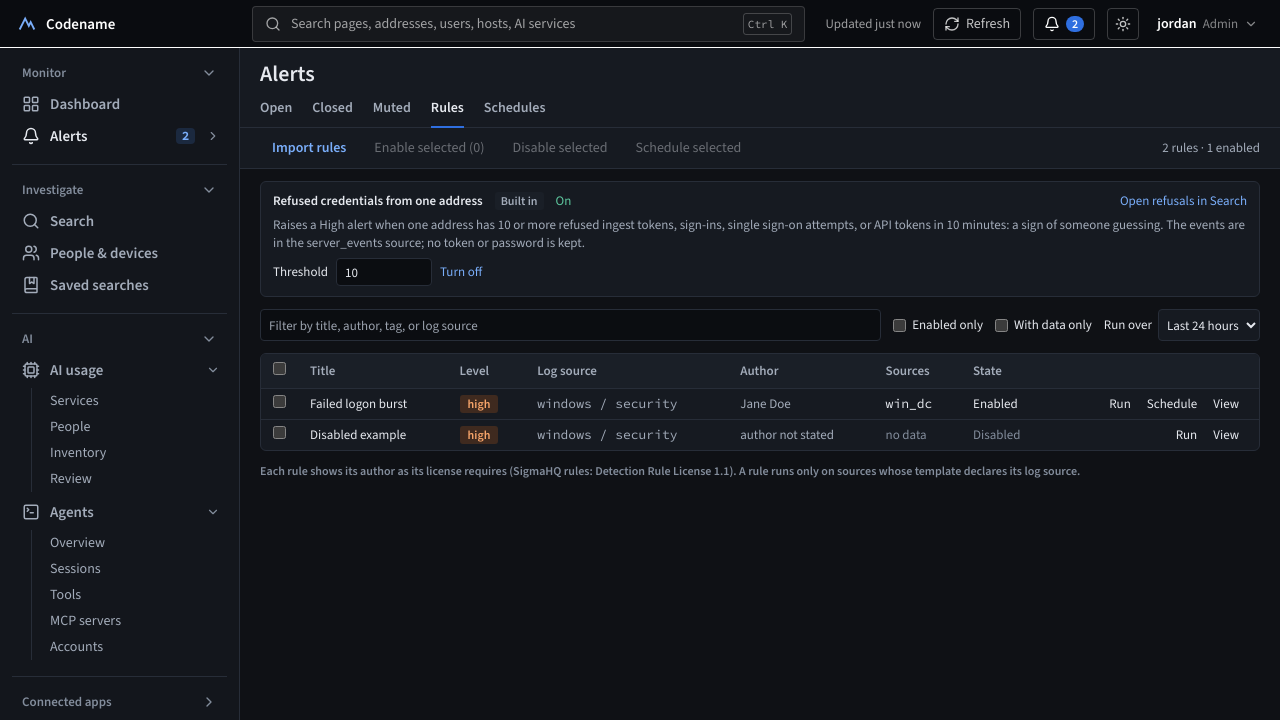
Test: Detection rules › schedules every selected rule at once with one set of settings (F58)
The image size is (1280, 720).
Click the checkbox named "Select all shown" at [280, 368], box [273,362,286,375]
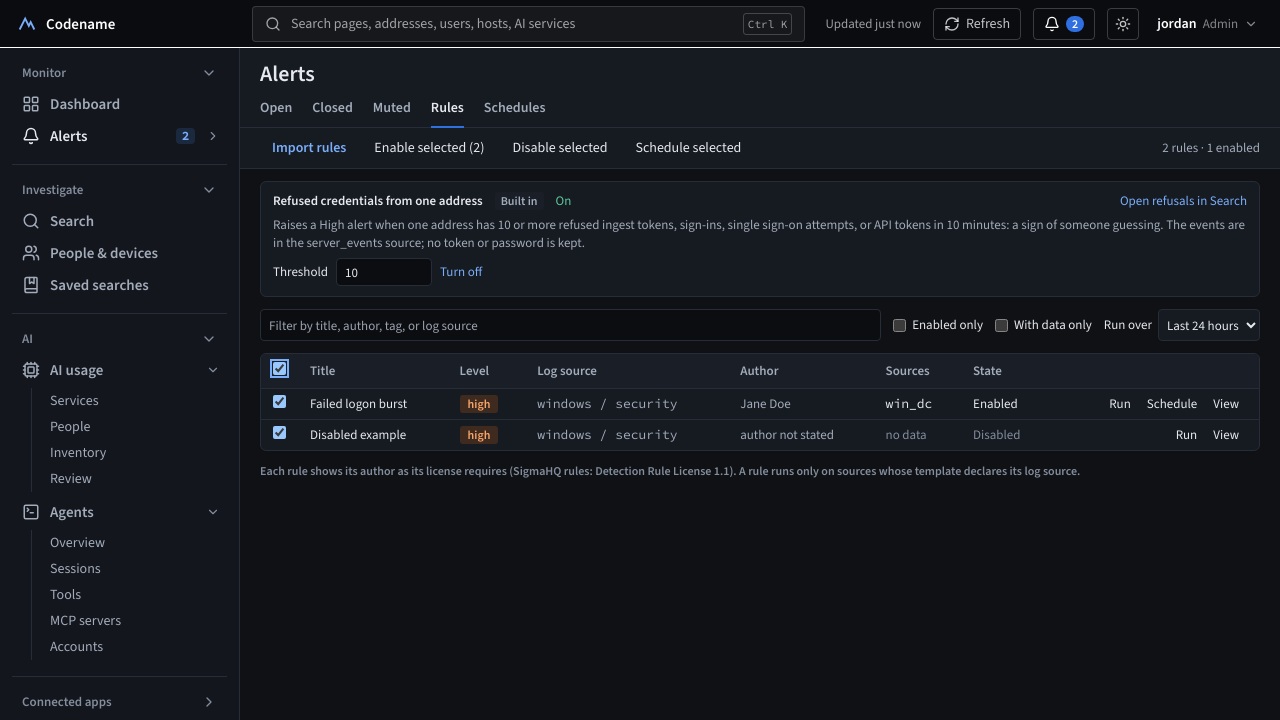
Click the button "Schedule selected" at [688, 148], box [623,132,753,164]
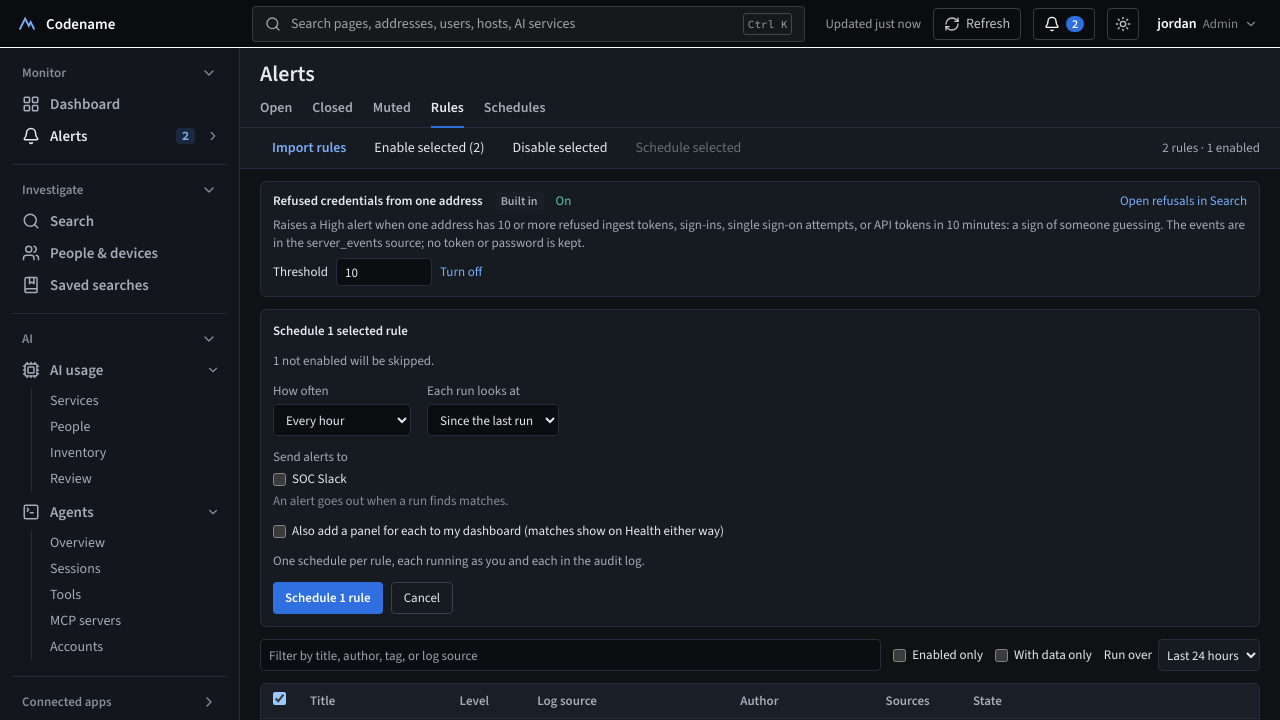
Now the text "1 not enabled will be skipped." is shown, box [273,352,434,369]
Click the checkbox labelled "SOC Slack" at [280, 479], box [273,472,286,486]
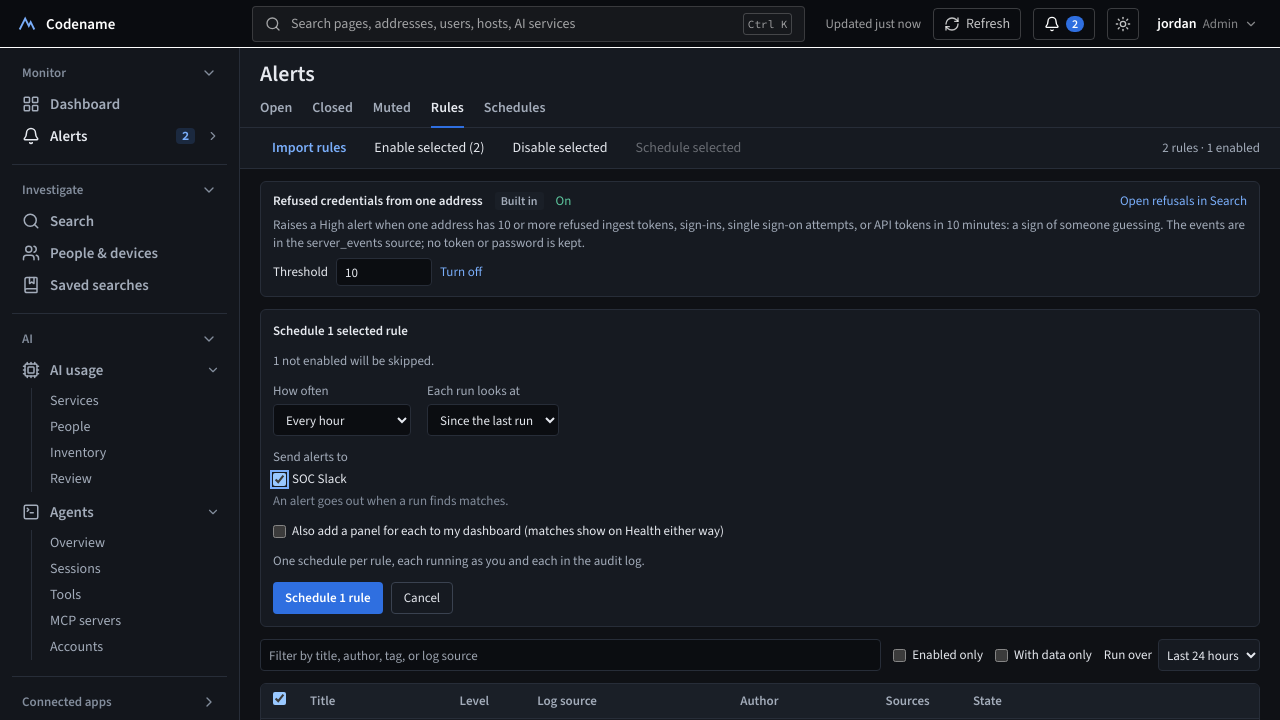
Click the button "Schedule 1 rule" at [328, 598], box [273,582,383,614]
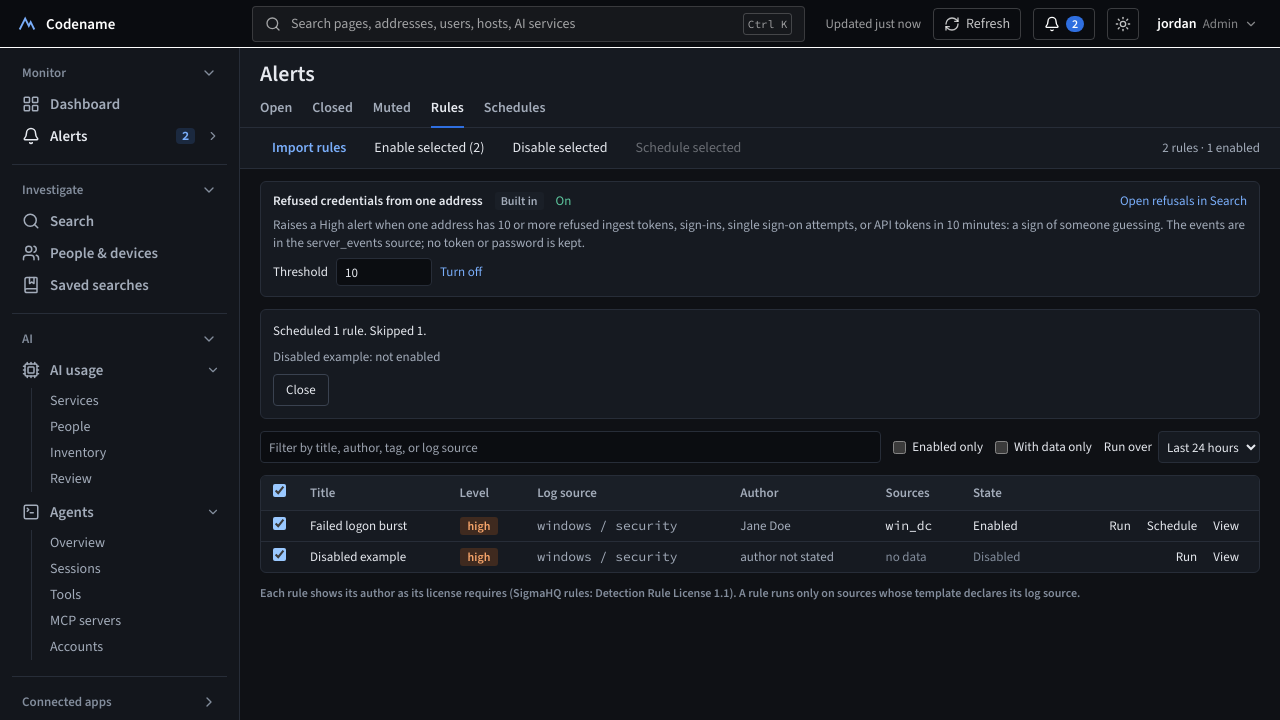
Now the message reads "Scheduled 1 rule. Skipped 1.", box [273,322,426,339]
